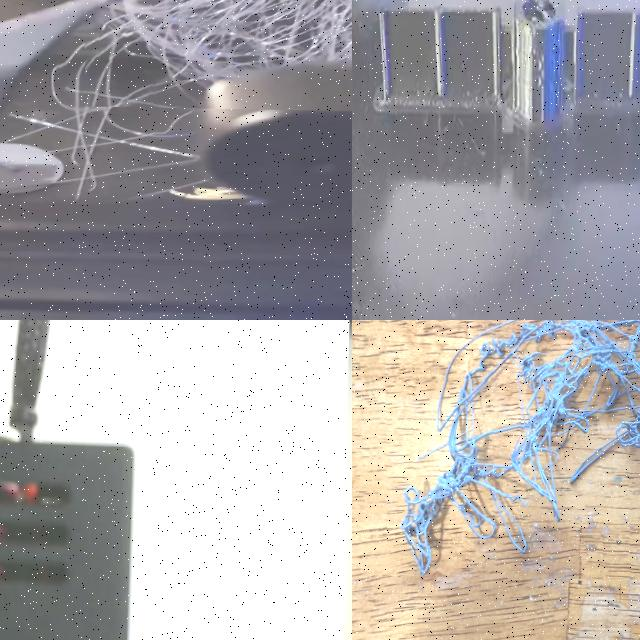spaghetti: (363, 320, 640, 582), (79, 0, 352, 112)
